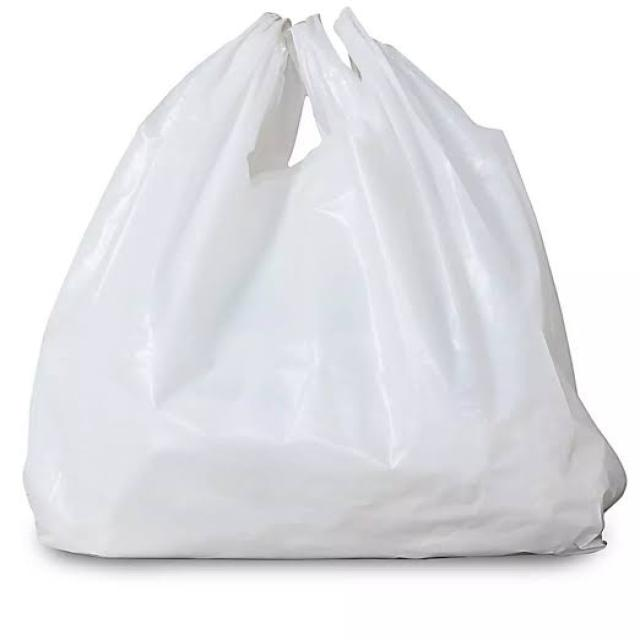plastic bag: (19, 5, 640, 578)
